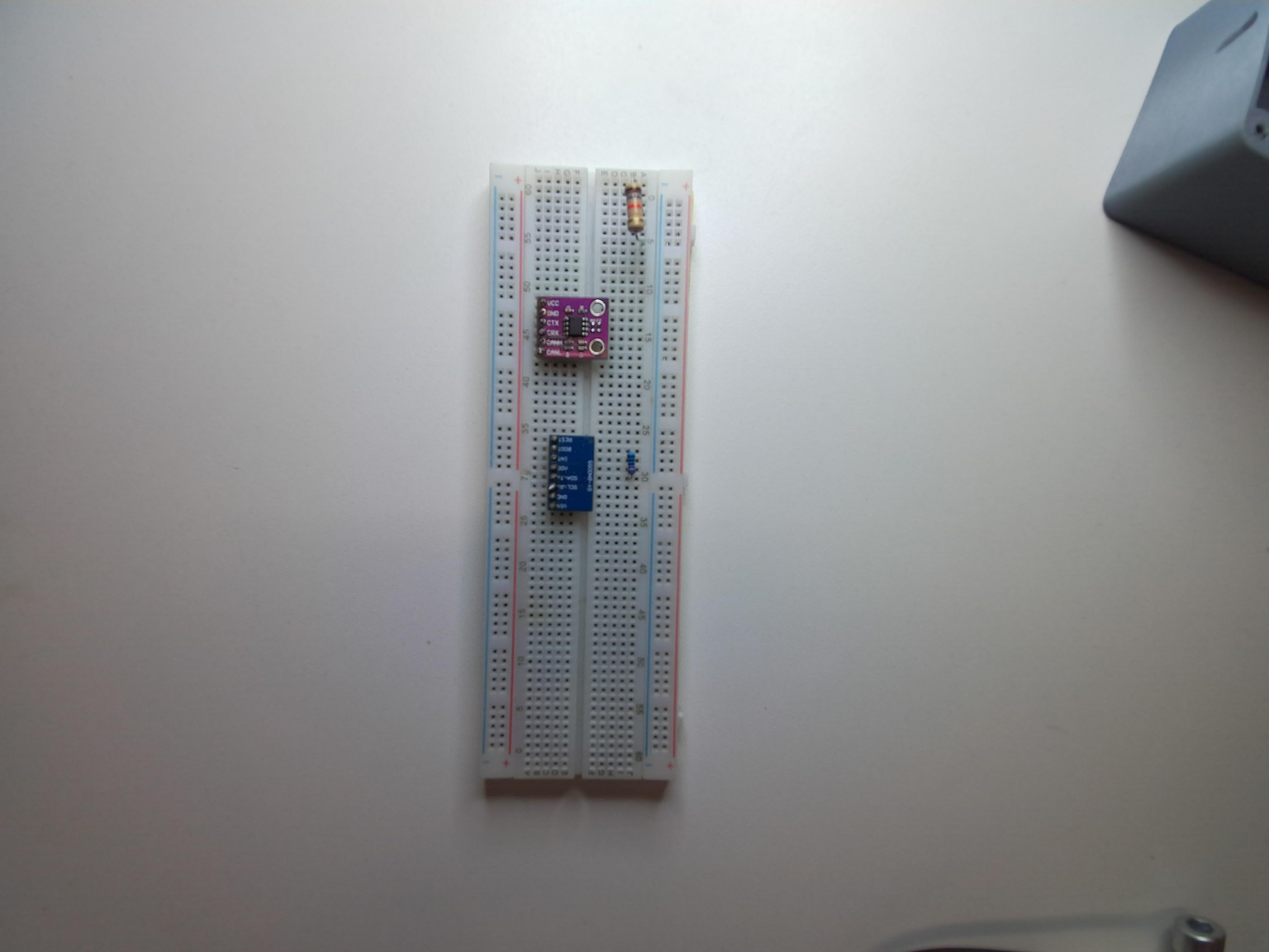base: (482, 158, 697, 804)
blue-board: (548, 430, 597, 517)
purple-board: (534, 296, 611, 364)
resistor-big: (624, 182, 649, 235)
resistor-small: (626, 448, 641, 476)
